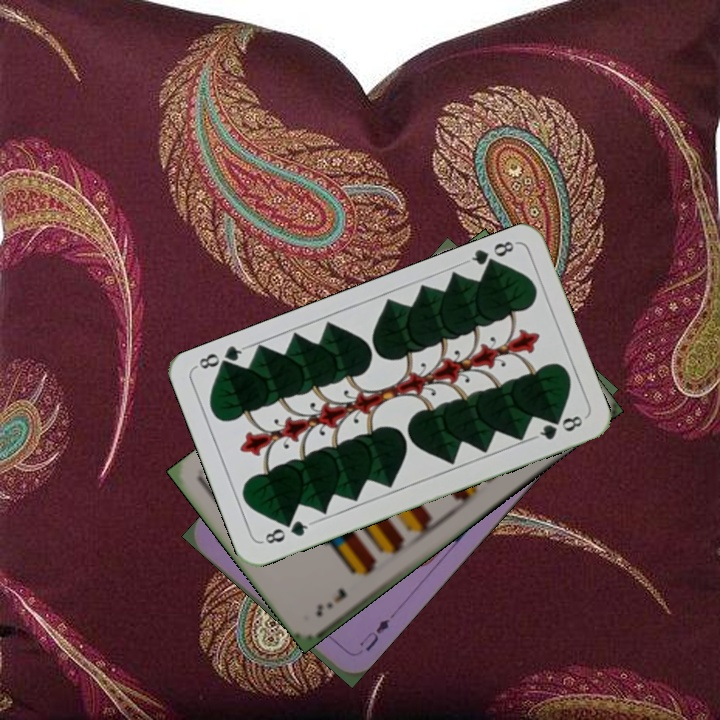E7: (312, 583, 349, 620)
EU: (355, 610, 395, 655)
G8: (462, 236, 519, 274), (258, 516, 315, 547)
